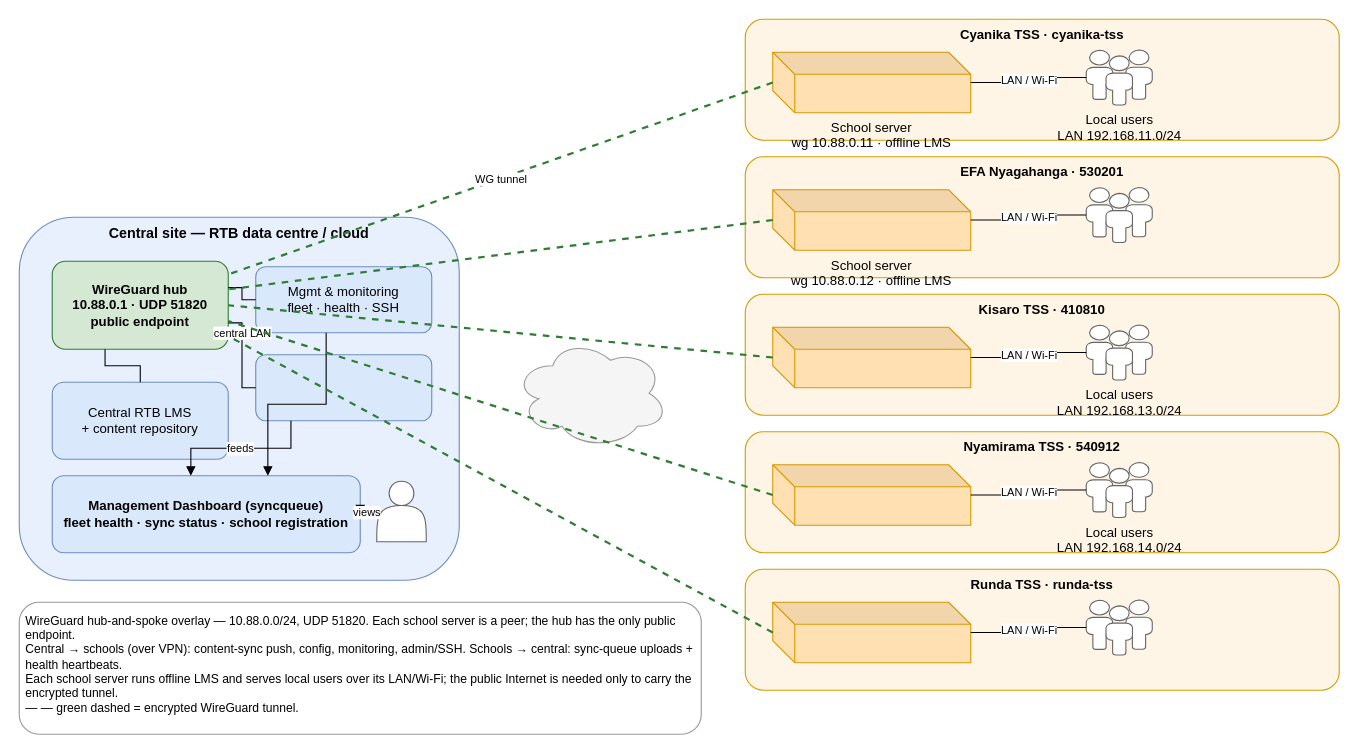
Some shapes in this 1359 by 754 pixel diagram are drawn without their labels. Here are the shapes that lost their labels. From the top down, the centre of each, then its label:
point 1118,214: Local users LAN 192.168.12.0/24
point 871,357: School server wg 10.88.0.13 · offline LMS
point 343,387: Sync service (syncqueue)
point 590,392: Public Internet
point 401,511: RTB admin
point 871,494: School server wg 10.88.0.14 · offline LMS
point 871,632: School server wg 10.88.0.15 · offline LMS
point 1118,627: Local users LAN 192.168.15.0/24
